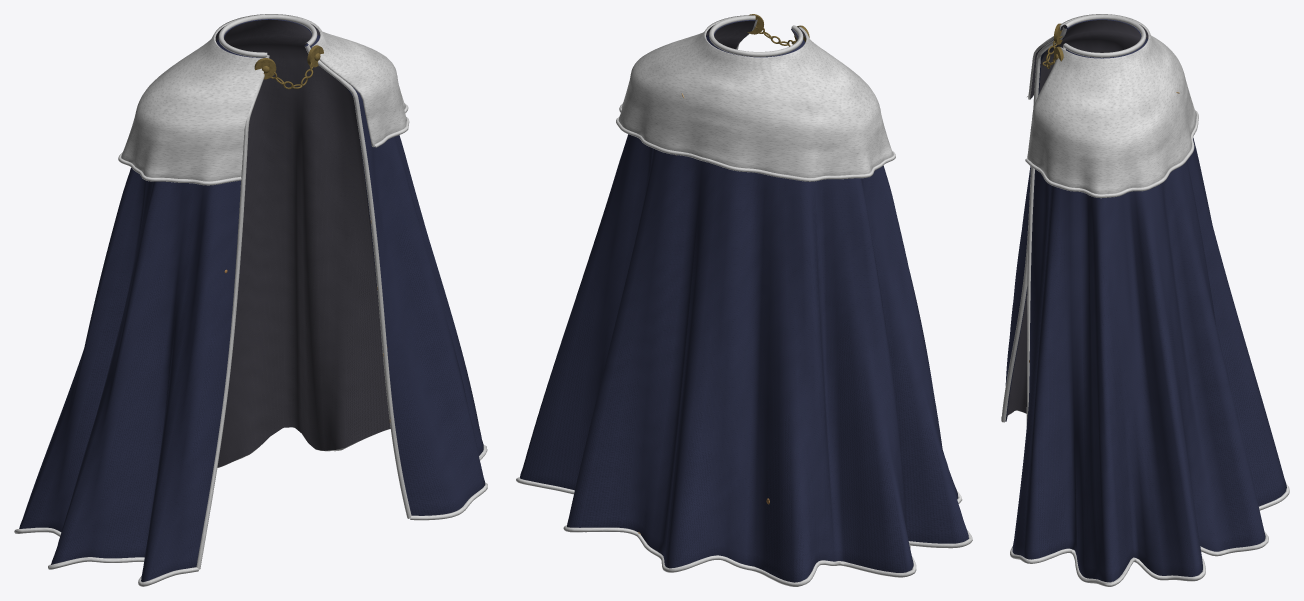
The picture shows the model from 3 angles, left to right: view 1: azimuth 30°, elevation 25°; view 2: azimuth 150°, elevation 25°; view 3: azimuth 270°, elevation 25°; orthographic projection. The views are drawn at different scales.
Parts seen in each view (by area): view 1: woven wool, brushed wool lining, oiled strap leather, aged alloy edge; view 2: woven wool, oiled strap leather, brushed wool lining; view 3: woven wool, oiled strap leather, brushed wool lining, aged alloy edge.
Part boxes in pixels (bbox=[...]): woven wool: bbox=[19, 19, 485, 581]; brushed wool lining: bbox=[215, 19, 390, 467]; oiled strap leather: bbox=[14, 14, 487, 586]; aged alloy edge: bbox=[254, 45, 323, 89]; woven wool: bbox=[520, 20, 968, 582]; oiled strap leather: bbox=[516, 15, 972, 586]; brushed wool lining: bbox=[706, 20, 805, 49]; woven wool: bbox=[1005, 19, 1286, 582]; oiled strap leather: bbox=[1001, 14, 1289, 586]; brushed wool lining: bbox=[1006, 20, 1148, 419]; aged alloy edge: bbox=[1042, 23, 1063, 68].
Bounding box in the file's own units: 0.8549 × 0.9085 × 0.5043.
Materials: 6 (4 with a texture image).
